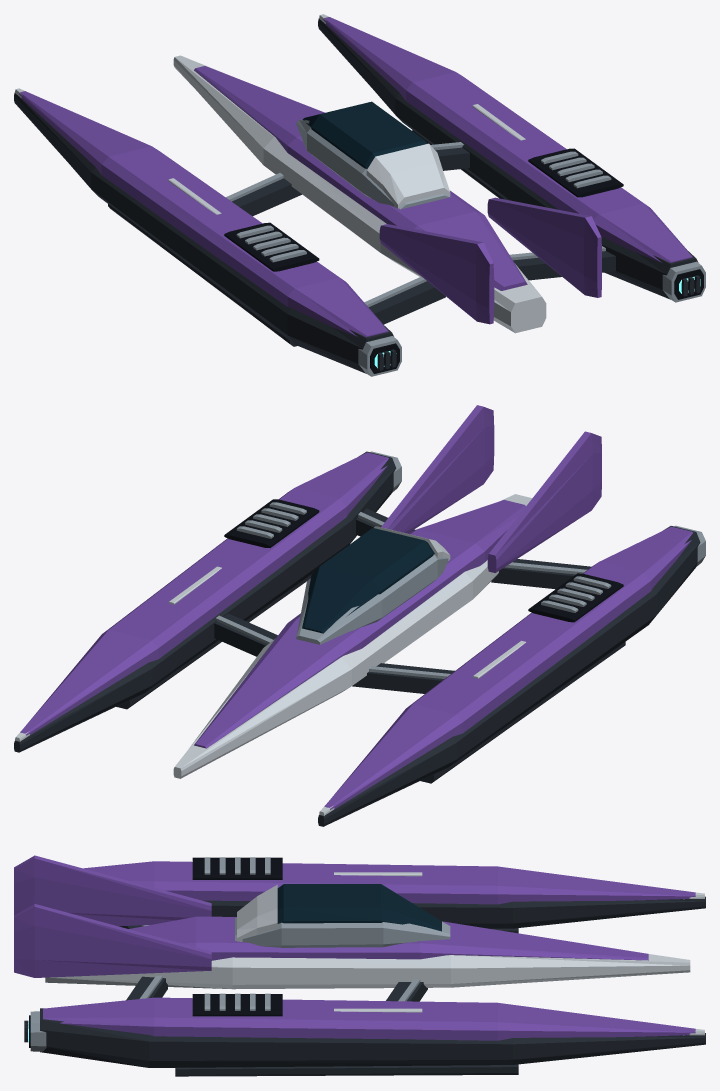
3 views of the same model, one above another, from view 1: azimuth 30°, elevation 25°; view 2: azimuth 150°, elevation 25°; view 3: azimuth 270°, elevation 25° (orthographic). The views are drawn at different scales.
Visible parts, largest first — view 1: Team_paint_001, Graphite_chassis_004, Secondary_paint_000, Titanium_edges_002, Smoked_canopy_003, Intake_darkness_005; view 2: Team_paint_001, Graphite_chassis_004, Secondary_paint_000, Titanium_edges_002, Smoked_canopy_003, Intake_darkness_005; view 3: Team_paint_001, Graphite_chassis_004, Secondary_paint_000, Titanium_edges_002, Smoked_canopy_003, Intake_darkness_005.
Part boxes in pixels (left/top/right/bottom): Team_paint_001: left=19, top=17, right=692, bottom=337; Graphite_chassis_004: left=14, top=18, right=700, bottom=373; Secondary_paint_000: left=15, top=14, right=546, bottom=333; Titanium_edges_002: left=226, top=119, right=705, bottom=376; Smoked_canopy_003: left=302, top=101, right=427, bottom=169; Intake_darkness_005: left=224, top=148, right=703, bottom=373; Team_paint_001: left=20, top=405, right=692, bottom=809; Graphite_chassis_004: left=14, top=451, right=700, bottom=826; Secondary_paint_000: left=15, top=494, right=532, bottom=815; Titanium_edges_002: left=216, top=451, right=705, bottom=678; Smoked_canopy_003: left=302, top=528, right=434, bottom=633; Intake_darkness_005: left=224, top=499, right=623, bottom=622; Team_paint_001: left=14, top=855, right=695, bottom=1040; Graphite_chassis_004: left=24, top=896, right=705, bottom=1076; Secondary_paint_000: left=45, top=872, right=704, bottom=1035; Titanium_edges_002: left=30, top=857, right=450, bottom=1051; Smoked_canopy_003: left=277, top=884, right=441, bottom=931; Intake_darkness_005: left=29, top=857, right=282, bottom=1047.
Bounding box in the file's own units: 2.3 × 0.8 × 4.07.
